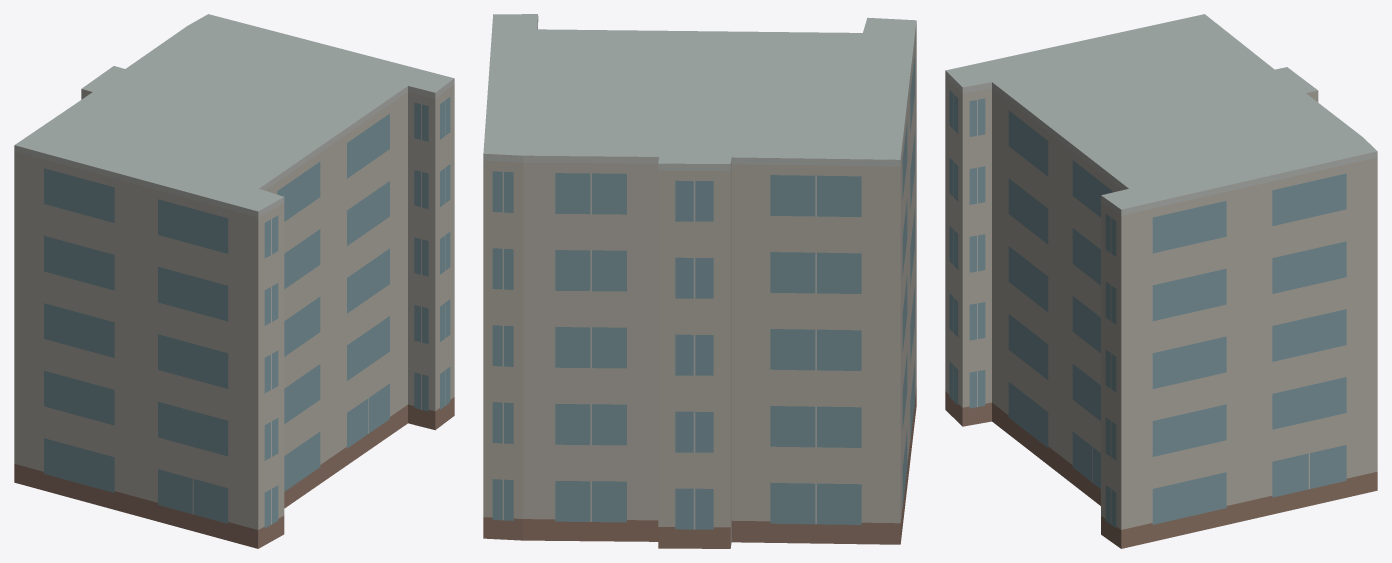
File: survey-upis-33041368.glb
The picture shows the model from 3 angles, left to right: view 1: azimuth 30°, elevation 25°; view 2: azimuth 150°, elevation 25°; view 3: azimuth 270°, elevation 25°; orthographic projection. The views are drawn at different scales.
Visible parts, largest first — view 1: survey-upis-33041368.tmp; view 2: survey-upis-33041368.tmp; view 3: survey-upis-33041368.tmp.
Boxes of the visible parts, <box> form: survey-upis-33041368.tmp: <box>14,14,454,548</box>; survey-upis-33041368.tmp: <box>483,14,916,548</box>; survey-upis-33041368.tmp: <box>945,14,1377,548</box>.
Bounding box in the file's own units: 17.01 × 13.75 × 15.88.
